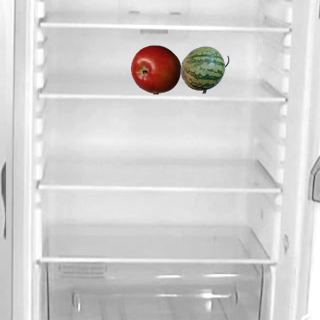Apple Braeburn: (130, 44, 180, 94)
Watermelon: (179, 44, 229, 94)
